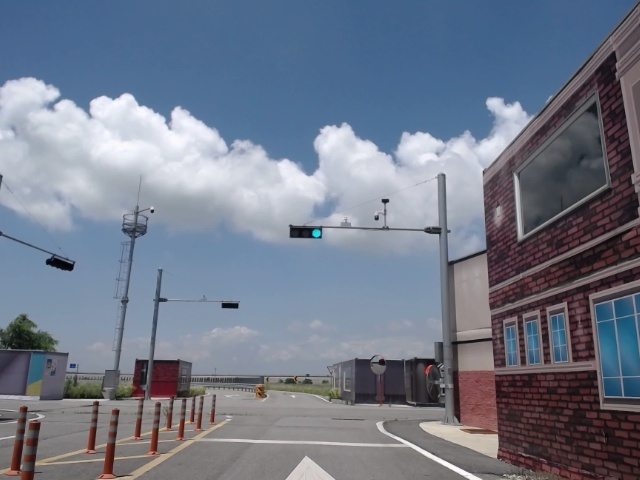green_3: (291, 226, 321, 237)
